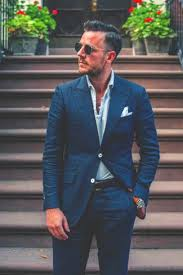F_M_suit jacket: (39, 72, 164, 219)
F_belt: (83, 174, 127, 195)
F_dress pants: (45, 185, 140, 275)
